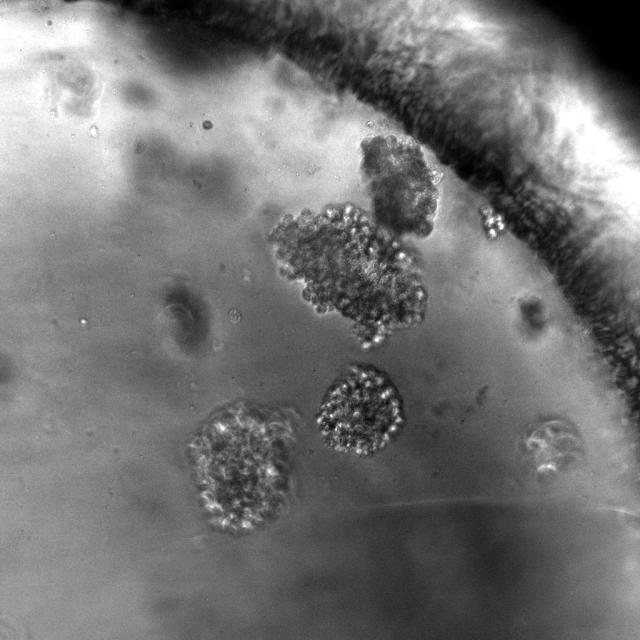organoid: (269, 203, 426, 348), (187, 400, 296, 535), (316, 363, 404, 456), (361, 135, 438, 235), (479, 205, 505, 239)
